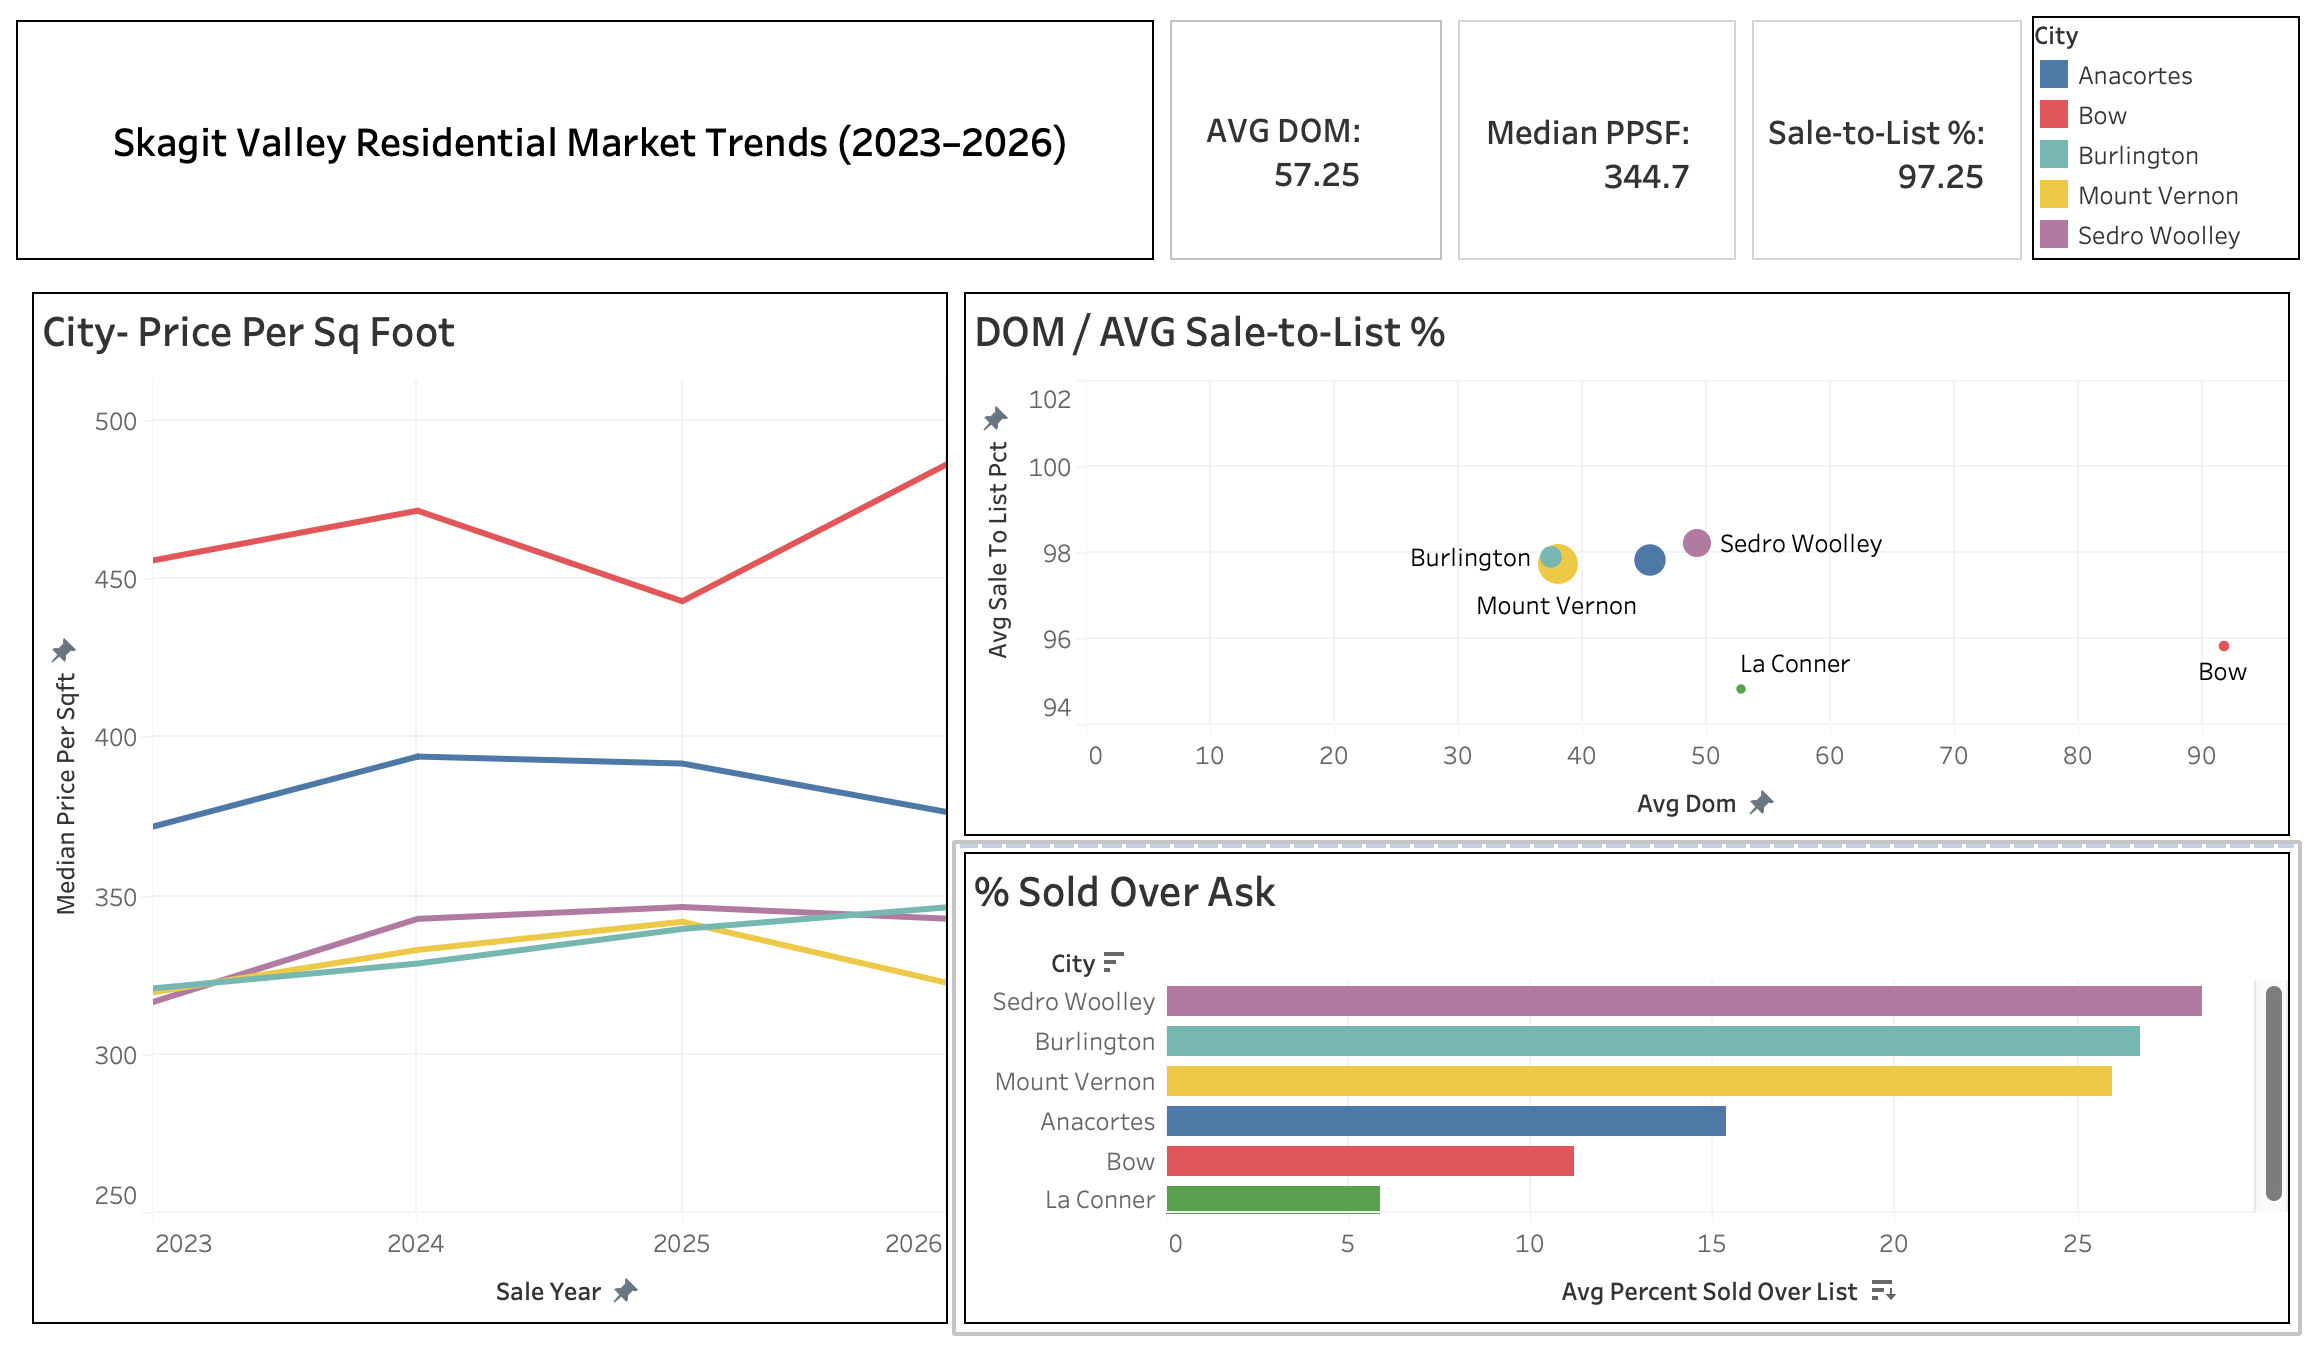

The dashboard page shown, as its layout file describes it:
{"tool":"tableau","page":{"name":"Dashboard 1","canvas":[1000,1000],"units":"permille","ordinal":0},"visuals":[{"type":"text","box":[6.8,11.7,493.2,186.6]},{"type":"worksheet","title":"KPI-DOM","mark":"Automatic","box":[500,11.7,123.3,186.6]},{"type":"worksheet","title":"KPI-MedianPPSF","mark":"Automatic","box":[623.3,11.7,126.1,186.6]},{"type":"worksheet","title":"KPI-%STL","mark":"Automatic","box":[749.4,11.7,122,186.6]},{"type":"legend","title":"City PPSF","param":"[federated.0sj7wno0ryyiqy1cqmp2d0syphxq].[none:city:nk]","box":[872.6,14.6,114.5,177.8]},{"type":"worksheet","title":"City PPSF","mark":"Automatic","rows":["median_price_per_sqft"],"cols":["sale_year"],"box":[13.7,210,398.7,766.6]},{"type":"worksheet","title":"DOM/STL","mark":"Circle","rows":["avg_sale_to_list_pct"],"cols":["avg_dom"],"box":[412.3,210,574,409.9]},{"type":"worksheet","title":"% Over","mark":"Automatic","rows":["city"],"cols":["percent_sold_over_list"],"box":[412.3,619.9,574,356.7]}]}

Visuals, with their boxes on the dashboard's canvas, which has no fixed pixel size, in thousandths of its width and height (x1, y1, x2, y2). These are canvas units, not pixel positions in the 2320x1364 screenshot, which may show the page scaled, cropped or inside an application window:
text: (left=7, top=12, right=500, bottom=198)
"KPI-DOM" worksheet: (left=500, top=12, right=623, bottom=198)
"KPI-MedianPPSF" worksheet: (left=623, top=12, right=749, bottom=198)
"KPI-%STL" worksheet: (left=749, top=12, right=871, bottom=198)
"City PPSF" legend: (left=873, top=15, right=987, bottom=192)
"City PPSF" worksheet: (left=14, top=210, right=412, bottom=977)
"DOM/STL" worksheet (Circle marks): (left=412, top=210, right=986, bottom=620)
"% Over" worksheet: (left=412, top=620, right=986, bottom=977)
